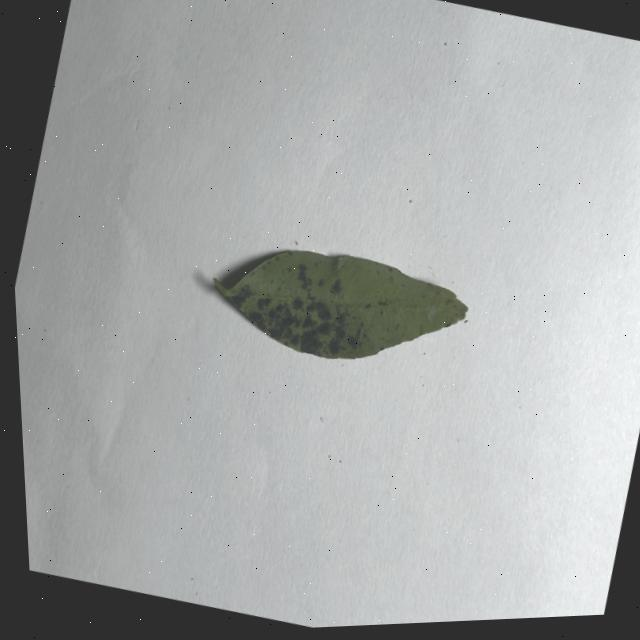sooty_mold: (215, 251, 466, 358)
